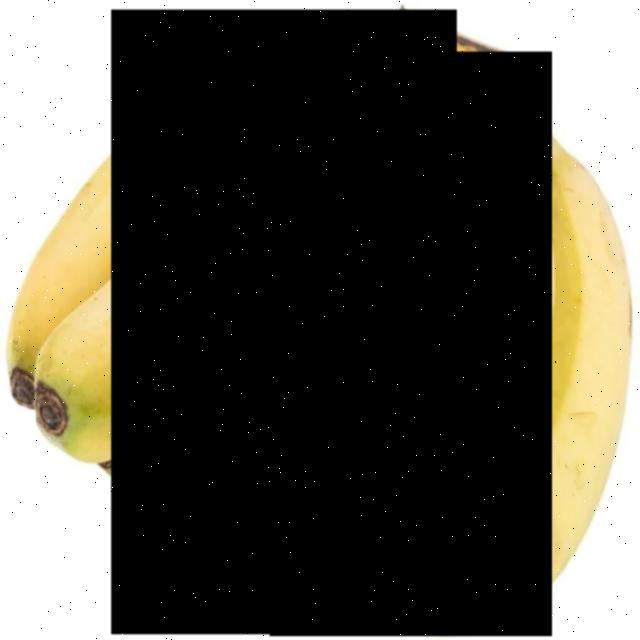Banana: (111, 10, 458, 635), (270, 52, 552, 637)
